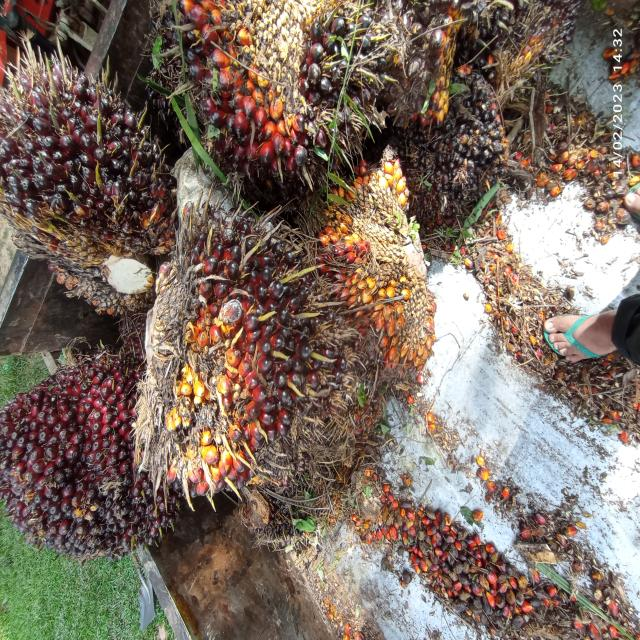fraksi 00: (0, 0, 203, 329)
fraksi 1: (92, 191, 377, 525), (145, 0, 403, 210), (0, 349, 184, 557)
